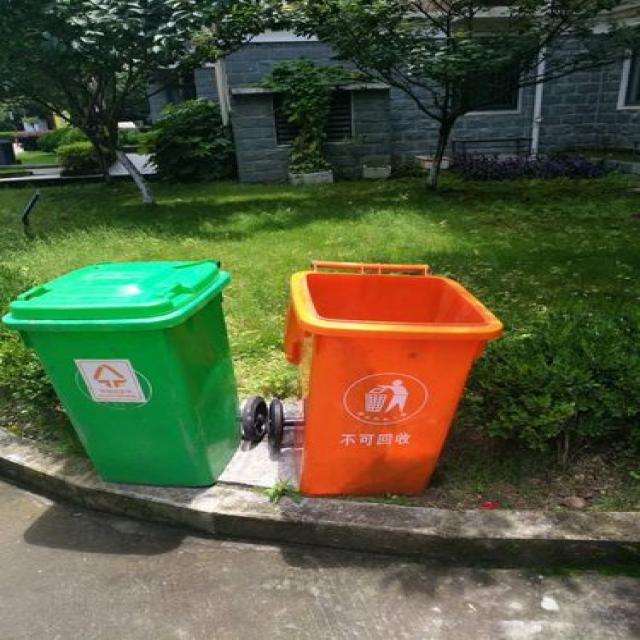garbage_bin: (2, 257, 239, 484), (278, 258, 502, 496)
